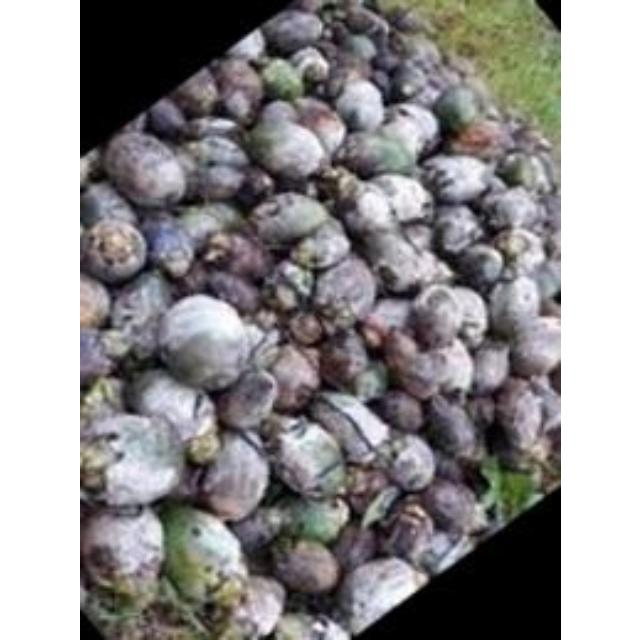damaged: (155, 294, 255, 392), (80, 412, 182, 508), (158, 505, 245, 605), (79, 506, 165, 598), (193, 430, 271, 520), (333, 556, 422, 634), (266, 417, 348, 499), (102, 128, 186, 208), (124, 370, 213, 444), (308, 391, 390, 465), (356, 228, 436, 296), (389, 336, 471, 400), (252, 190, 332, 250), (79, 216, 147, 284), (491, 380, 551, 456), (108, 273, 172, 343), (310, 257, 376, 323), (260, 343, 322, 411), (270, 537, 340, 593), (271, 496, 347, 546), (421, 154, 494, 206), (202, 229, 272, 283), (336, 130, 414, 178), (406, 284, 464, 348), (227, 577, 285, 639), (378, 500, 436, 560), (486, 276, 542, 338), (366, 173, 432, 225), (378, 433, 436, 492), (208, 56, 264, 116), (376, 104, 438, 158), (504, 317, 558, 379), (418, 476, 474, 534), (316, 331, 370, 389), (258, 8, 326, 54), (290, 99, 344, 155), (290, 220, 350, 270), (174, 201, 238, 247), (183, 159, 247, 203), (330, 78, 384, 130), (431, 205, 485, 257), (338, 187, 394, 237), (438, 286, 488, 342), (483, 186, 543, 232), (80, 589, 140, 635), (170, 66, 222, 118), (265, 258, 317, 310), (489, 226, 545, 274), (202, 270, 262, 314), (491, 464, 537, 520), (431, 84, 484, 132), (451, 241, 503, 289), (416, 527, 468, 575), (496, 150, 554, 193), (80, 182, 134, 228), (185, 132, 247, 172), (136, 606, 208, 640), (80, 434, 122, 492), (446, 118, 506, 158), (373, 388, 425, 434), (79, 374, 125, 426), (468, 340, 510, 396), (342, 463, 392, 509), (258, 57, 306, 101), (332, 524, 376, 572), (82, 410, 132, 452), (324, 50, 374, 91), (386, 60, 432, 104), (360, 484, 402, 532), (80, 330, 116, 386), (313, 164, 361, 206), (272, 610, 338, 640), (378, 328, 420, 374), (475, 458, 505, 520), (338, 2, 388, 38), (230, 168, 274, 208), (286, 46, 332, 84), (366, 296, 412, 334), (397, 34, 443, 72), (80, 272, 112, 326), (183, 115, 240, 145), (145, 98, 187, 138), (178, 258, 220, 298), (506, 124, 554, 158), (495, 377, 535, 415), (458, 75, 497, 113), (287, 309, 327, 346), (335, 31, 379, 64), (97, 326, 137, 362), (431, 450, 471, 486), (158, 243, 195, 281), (399, 221, 437, 257), (224, 29, 264, 60), (388, 7, 430, 36), (464, 394, 496, 432), (530, 454, 560, 494), (427, 8, 467, 38), (256, 99, 298, 127), (532, 264, 560, 304), (356, 319, 388, 353), (442, 52, 478, 82), (79, 146, 103, 188), (321, 70, 352, 102), (251, 306, 281, 334), (80, 577, 100, 617), (290, 0, 324, 14)
